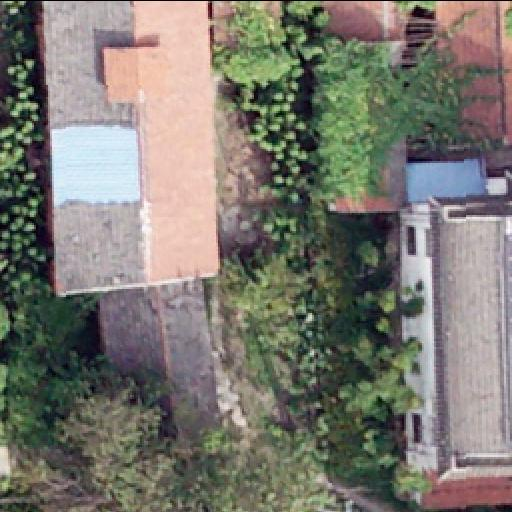solar-panel: (504, 220, 512, 364)
